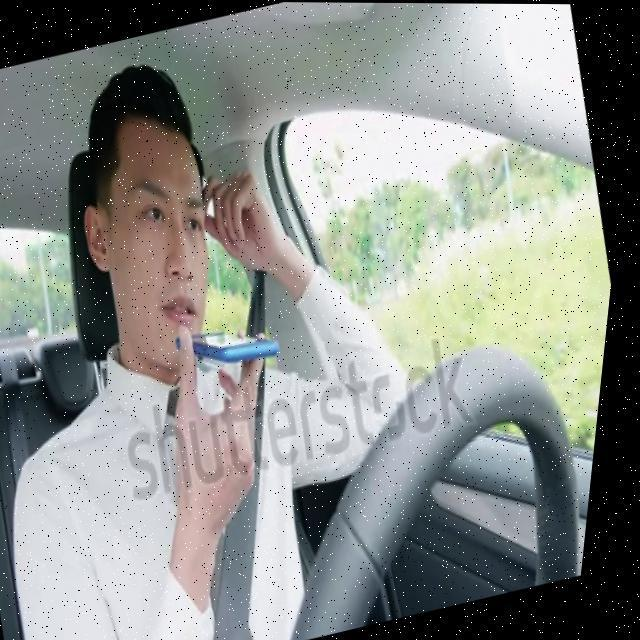PhoneCall: (176, 306, 292, 378)
